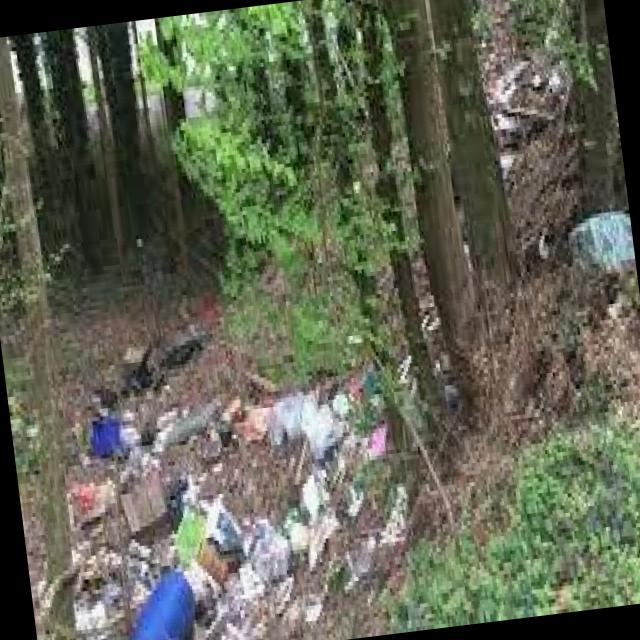garbage: (65, 259, 416, 640)
